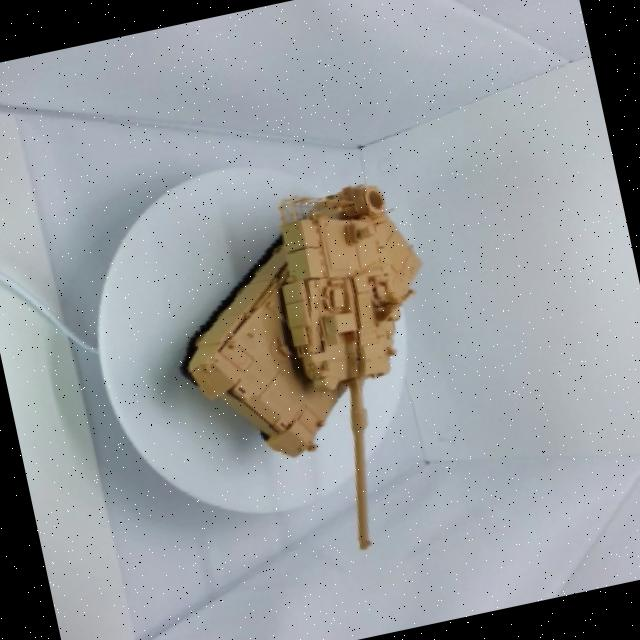korea tank: (122, 148, 510, 596)
